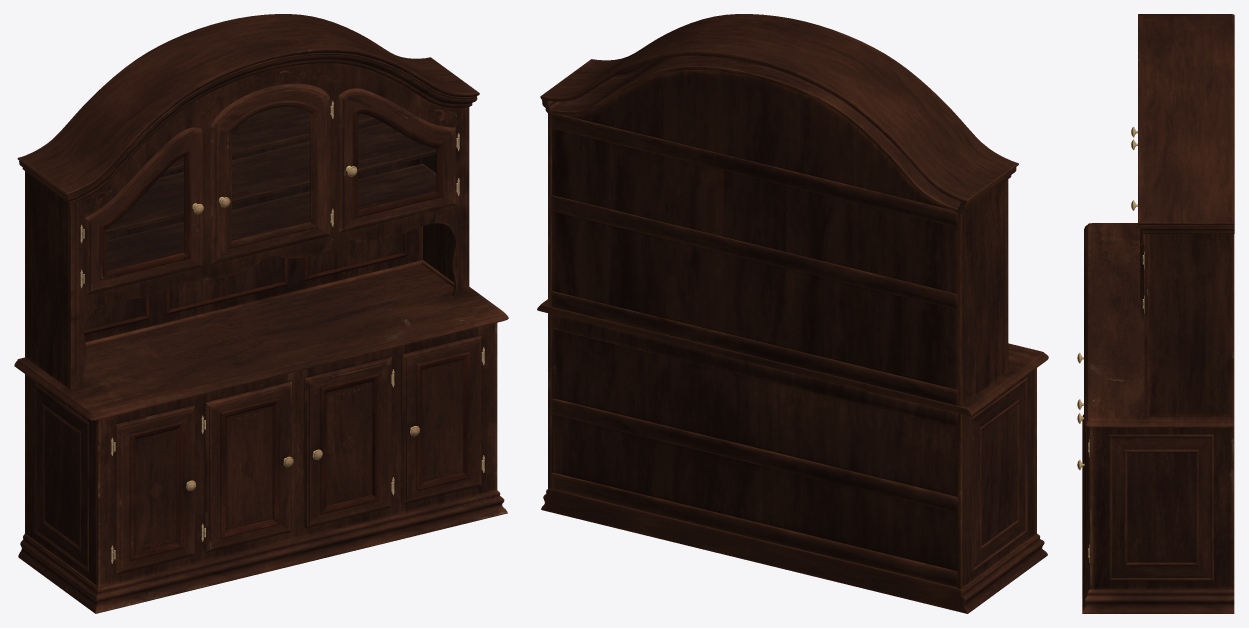
File: vintage_cabinet_01_1k.obj
3 renders of one model, left to right at view 1: azimuth 30°, elevation 25°; view 2: azimuth 150°, elevation 25°; view 3: azimuth 270°, elevation 25°, orthographic. The views are drawn at different scales.
Parts seen in each view (by area): view 1: vintage_cabinet_01_body, vintage_cabinet_01_door_03, vintage_cabinet_01_door_01, vintage_cabinet_01_door_04, vintage_cabinet_01_door_07, vintage_cabinet_01_door_06, vintage_cabinet_01_door_02, vintage_cabinet_01_door_05; view 2: vintage_cabinet_01_body; view 3: vintage_cabinet_01_body, vintage_cabinet_01_door_02, vintage_cabinet_01_door_04.
Part boxes in pixels (x1=…): vintage_cabinet_01_body: x1=14, y1=14, x2=508, y2=613; vintage_cabinet_01_door_03: x1=210, y1=83, x2=332, y2=264; vintage_cabinet_01_door_01: x1=83, y1=127, x2=203, y2=295; vintage_cabinet_01_door_04: x1=338, y1=88, x2=458, y2=233; vintage_cabinet_01_door_07: x1=304, y1=357, x2=392, y2=528; vintage_cabinet_01_door_06: x1=204, y1=381, x2=293, y2=552; vintage_cabinet_01_door_02: x1=401, y1=335, x2=483, y2=504; vintage_cabinet_01_door_05: x1=113, y1=405, x2=195, y2=574; vintage_cabinet_01_body: x1=537, y1=14, x2=1048, y2=613; vintage_cabinet_01_body: x1=1082, y1=14, x2=1234, y2=613; vintage_cabinet_01_door_02: x1=1077, y1=426, x2=1089, y2=572; vintage_cabinet_01_door_04: x1=1131, y1=200, x2=1144, y2=319.
Size of the model in its own units: 2.02 by 2.24 by 0.6698.
